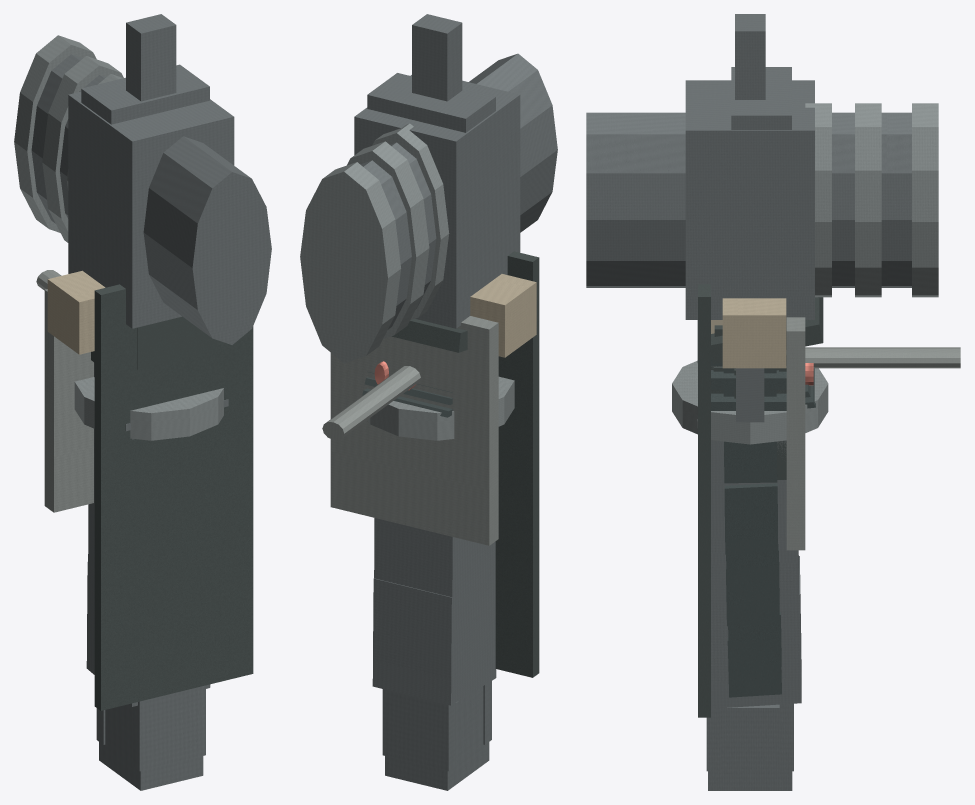
Rendered from weapon_mcxspearlt.glb.
The picture shows the model from 3 angles, left to right: view 1: azimuth 30°, elevation 25°; view 2: azimuth 150°, elevation 25°; view 3: azimuth 270°, elevation 25°; orthographic projection.
Parts seen in each view (by area): view 1: weapon_mcxspearlt__L1_stock__mcx_compact, weapon_mcxspearlt__L0_optic__scope6, weapon_mcxspearlt__L0_optic__prism2, weapon_mcxspearlt__L1_optic__scope6, weapon_mcxspearlt__L1_optic__prism2, weapon_mcxspearlt__L0_stock__mcx_compact, weapon_mcxspearlt__L0_handguard_grip__fore_bail, weapon_mcxspearlt__L1_handguard_grip__fore_bail, weapon_mcxspearlt__L0_handguard_light__wide_light, weapon_mcxspearlt__L0_optic__dot_tube, weapon_mcxspearlt__L0_optic__holo, weapon_mcxspearlt__L1_body (+10 smaller); view 2: weapon_mcxspearlt__L0_stock__mcx_compact, weapon_mcxspearlt__L1_stock__mcx_compact, weapon_mcxspearlt__L0_optic__prism2, weapon_mcxspearlt__L1_optic__scope6, weapon_mcxspearlt__L0_optic__scope6, weapon_mcxspearlt__L0_magazine__ar556_20, weapon_mcxspearlt__L1_optic__prism2, weapon_mcxspearlt__L0_handguard_grip__fore_bail, weapon_mcxspearlt__L0_magazine__ar556_30, weapon_mcxspearlt__L0_optic__dot_tube, weapon_mcxspearlt__L1_handguard_grip__fore_bail, weapon_mcxspearlt__L1_optic__dot_tube (+15 smaller); view 3: weapon_mcxspearlt__L0_optic__prism2, weapon_mcxspearlt__L0_optic__scope6, weapon_mcxspearlt__L0_optic__scope4, weapon_mcxspearlt__L1_optic__prism2, weapon_mcxspearlt__L1_stock__mcx_compact, weapon_mcxspearlt__L0_magazine__ar556_20, weapon_mcxspearlt__L1_optic__scope6, weapon_mcxspearlt__L1_magazine__ar556_30, weapon_mcxspearlt__L0_stock__mcx_compact, weapon_mcxspearlt__L1_magazine__ar556_20, weapon_mcxspearlt__L0_optic__dot_tube, weapon_mcxspearlt__L0_stock__mcx_stock (+17 smaller).
Boxes of the visible parts, x1,y1,x2,y2 form: weapon_mcxspearlt__L1_stock__mcx_compact: [44, 270, 253, 710]; weapon_mcxspearlt__L0_optic__scope6: [17, 36, 270, 341]; weapon_mcxspearlt__L0_optic__prism2: [43, 56, 232, 325]; weapon_mcxspearlt__L1_optic__scope6: [14, 35, 271, 344]; weapon_mcxspearlt__L1_optic__prism2: [42, 56, 234, 328]; weapon_mcxspearlt__L0_stock__mcx_compact: [45, 282, 250, 695]; weapon_mcxspearlt__L0_handguard_grip__fore_bail: [97, 686, 204, 784]; weapon_mcxspearlt__L1_handguard_grip__fore_bail: [96, 685, 205, 790]; weapon_mcxspearlt__L0_handguard_light__wide_light: [74, 377, 223, 439]; weapon_mcxspearlt__L0_optic__dot_tube: [67, 14, 174, 187]; weapon_mcxspearlt__L0_optic__holo: [81, 65, 208, 123]; weapon_mcxspearlt__L1_body: [36, 270, 217, 369]; weapon_mcxspearlt__L0_stock__mcx_compact: [333, 251, 538, 674]; weapon_mcxspearlt__L1_stock__mcx_compact: [330, 251, 539, 677]; weapon_mcxspearlt__L0_optic__prism2: [349, 82, 519, 334]; weapon_mcxspearlt__L1_optic__scope6: [300, 53, 557, 363]; weapon_mcxspearlt__L0_optic__scope6: [301, 54, 551, 359]; weapon_mcxspearlt__L0_magazine__ar556_20: [374, 519, 495, 675]; weapon_mcxspearlt__L1_optic__prism2: [347, 75, 520, 338]; weapon_mcxspearlt__L0_handguard_grip__fore_bail: [384, 682, 490, 784]; weapon_mcxspearlt__L0_magazine__ar556_30: [374, 537, 495, 702]; weapon_mcxspearlt__L0_optic__dot_tube: [375, 15, 461, 316]; weapon_mcxspearlt__L1_handguard_grip__fore_bail: [382, 681, 491, 790]; weapon_mcxspearlt__L1_optic__dot_tube: [372, 14, 462, 319]; weapon_mcxspearlt__L0_optic__prism2: [675, 81, 880, 316]; weapon_mcxspearlt__L0_optic__scope6: [587, 103, 937, 297]; weapon_mcxspearlt__L0_optic__scope4: [642, 112, 854, 287]; weapon_mcxspearlt__L1_optic__prism2: [674, 80, 881, 319]; weapon_mcxspearlt__L1_stock__mcx_compact: [698, 284, 805, 717]; weapon_mcxspearlt__L0_magazine__ar556_20: [711, 368, 801, 682]; weapon_mcxspearlt__L1_optic__scope6: [586, 103, 938, 297]; weapon_mcxspearlt__L1_magazine__ar556_30: [711, 368, 801, 708]; weapon_mcxspearlt__L0_stock__mcx_compact: [698, 284, 804, 600]; weapon_mcxspearlt__L1_magazine__ar556_20: [711, 368, 801, 684]; weapon_mcxspearlt__L0_optic__dot_tube: [736, 14, 831, 297]; weapon_mcxspearlt__L0_stock__mcx_stock: [700, 298, 801, 714].
Size of the model in its own units: 2.19 by 9.09 by 4.09.
Materials: 3 (3 with a texture image).
